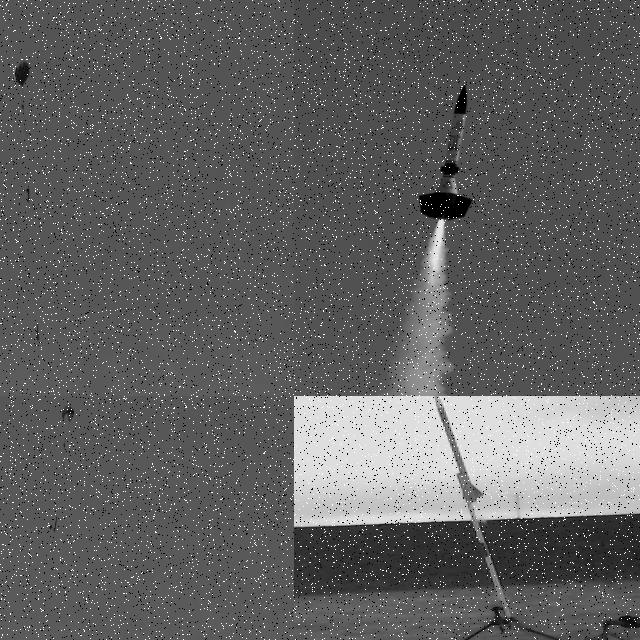Rocket: (418, 84, 474, 222), (432, 396, 485, 503), (36, 323, 40, 341)
